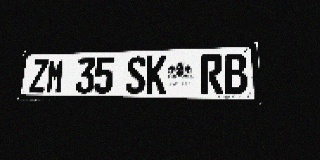3: (76, 58, 96, 93)
5: (94, 57, 114, 94)
B: (224, 53, 248, 94)
K: (146, 56, 167, 94)
M: (46, 59, 65, 93)
R: (201, 54, 224, 94)
S: (126, 56, 146, 94)
Z: (29, 59, 48, 93)
